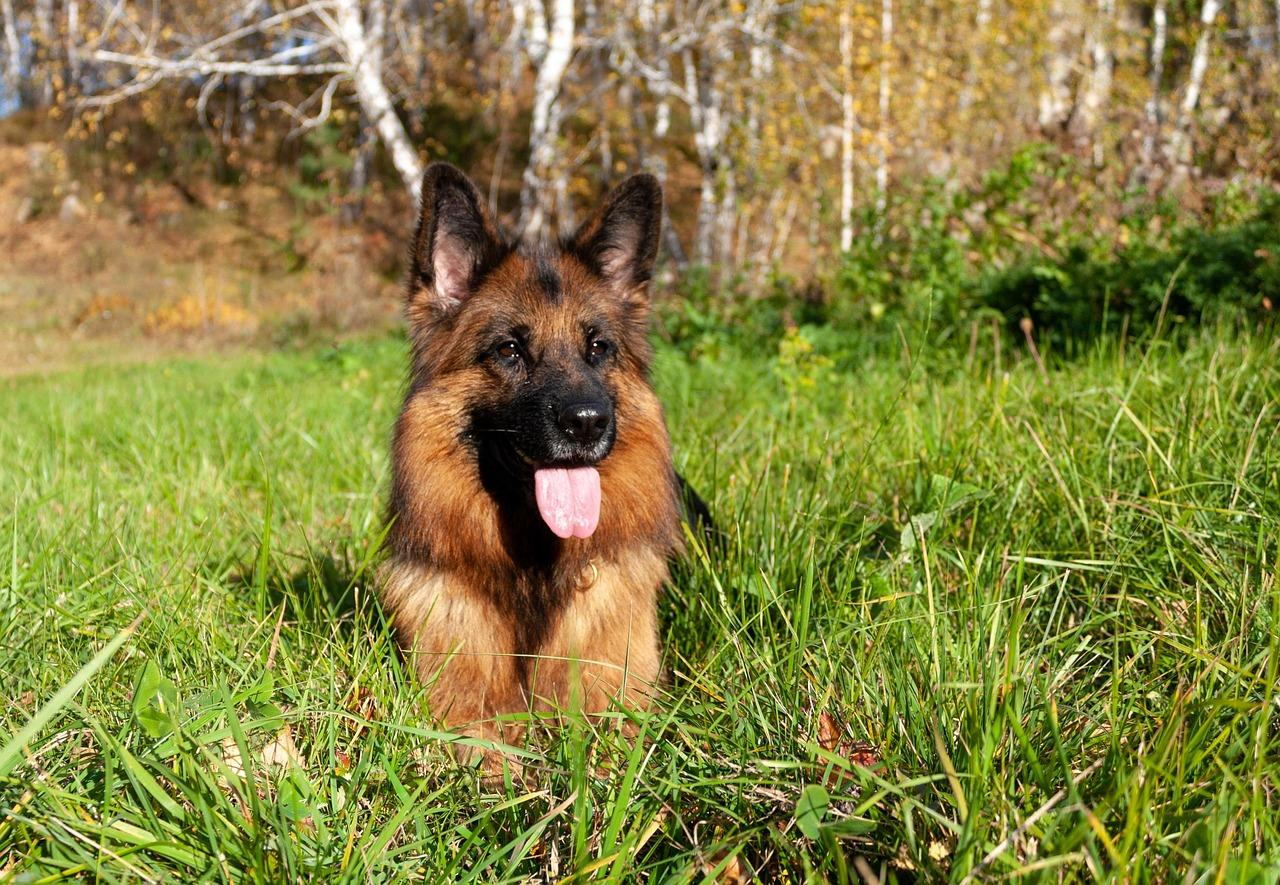german_shepherd: (414, 143, 669, 573)
